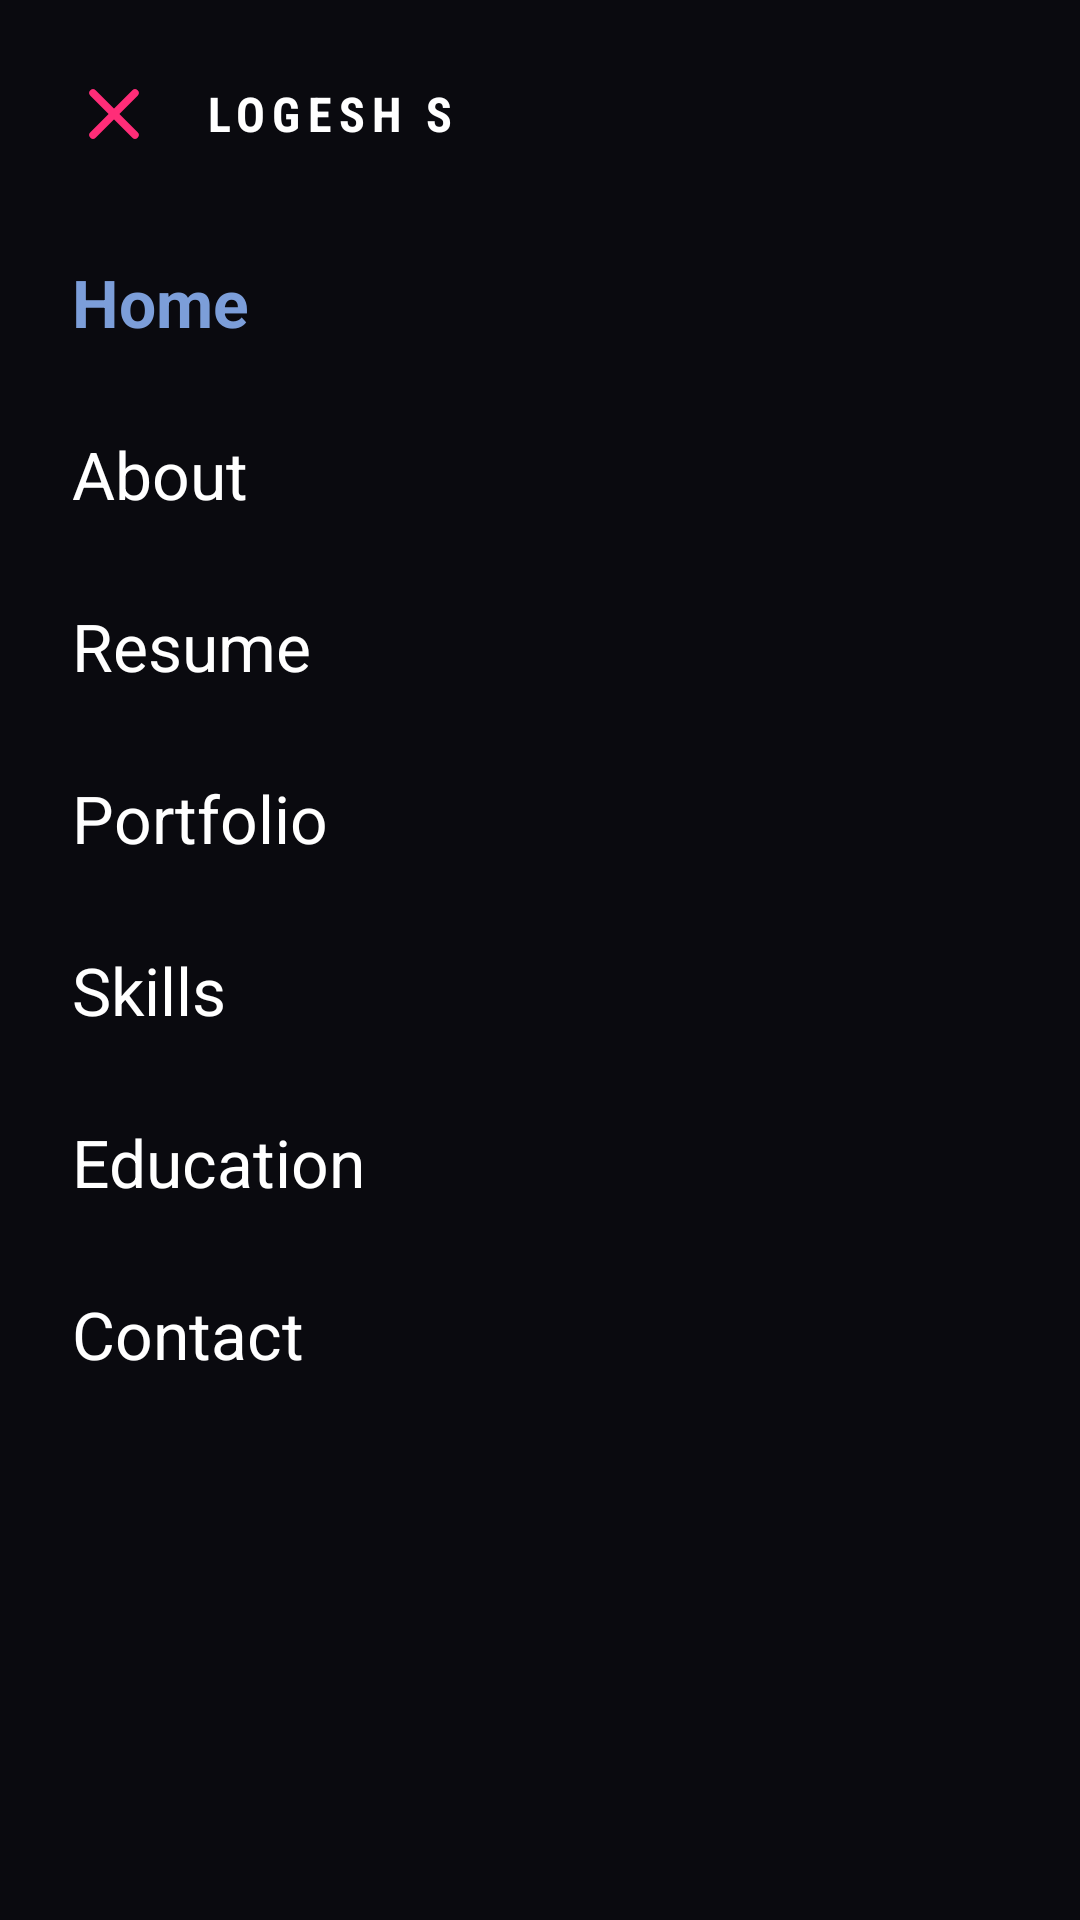

Named icons in this screenshot (1080 x 1920) and their bounding boxes, (x1, y1, x2, y2):
close: (89, 89, 139, 139)
